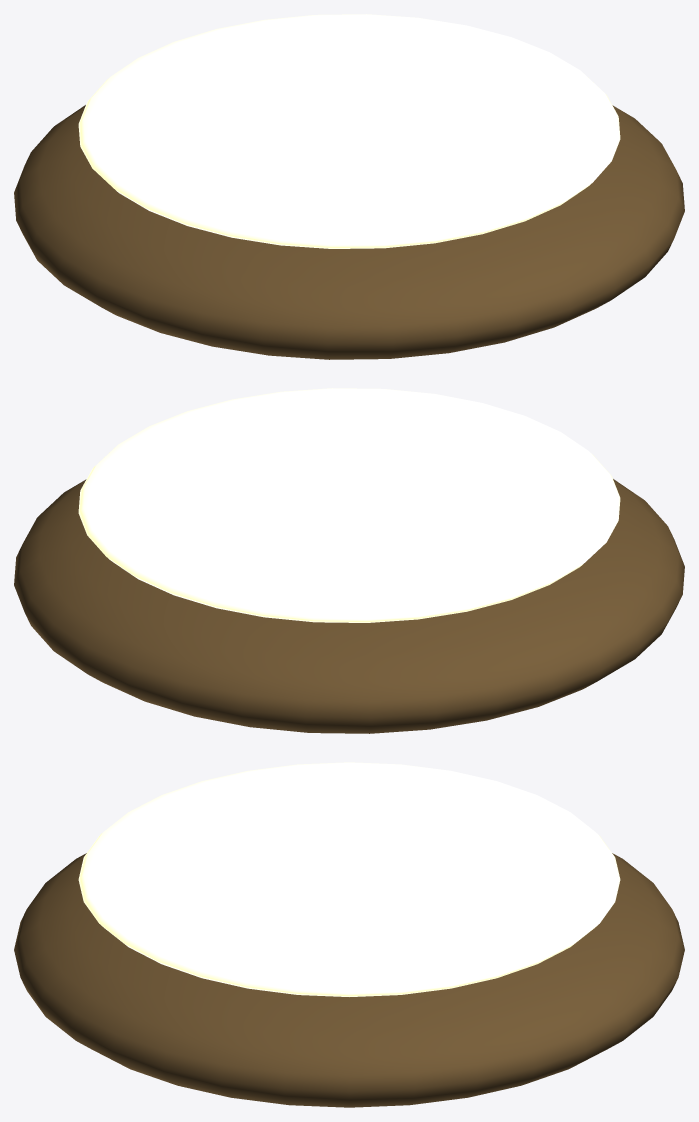
File: reference-bedroom-downlight.glb
3 renders of one model, top to bottom at view 1: azimuth 30°, elevation 25°; view 2: azimuth 150°, elevation 25°; view 3: azimuth 270°, elevation 25°, orthographic.
Parts seen in each view (by area): view 1: Opal downlight lens, Recessed bronze trim; view 2: Opal downlight lens, Recessed bronze trim; view 3: Opal downlight lens, Recessed bronze trim.
Part boxes in pixels (left/top/right/bottom): Opal downlight lens: left=78, top=14, right=620, bottom=248; Recessed bronze trim: left=14, top=105, right=684, bottom=359; Opal downlight lens: left=78, top=388, right=620, bottom=622; Recessed bronze trim: left=14, top=479, right=684, bottom=733; Opal downlight lens: left=78, top=762, right=620, bottom=996; Recessed bronze trim: left=14, top=853, right=684, bottom=1107.
Bounding box in the file's own units: 0.104 × 0.0285 × 0.104.
